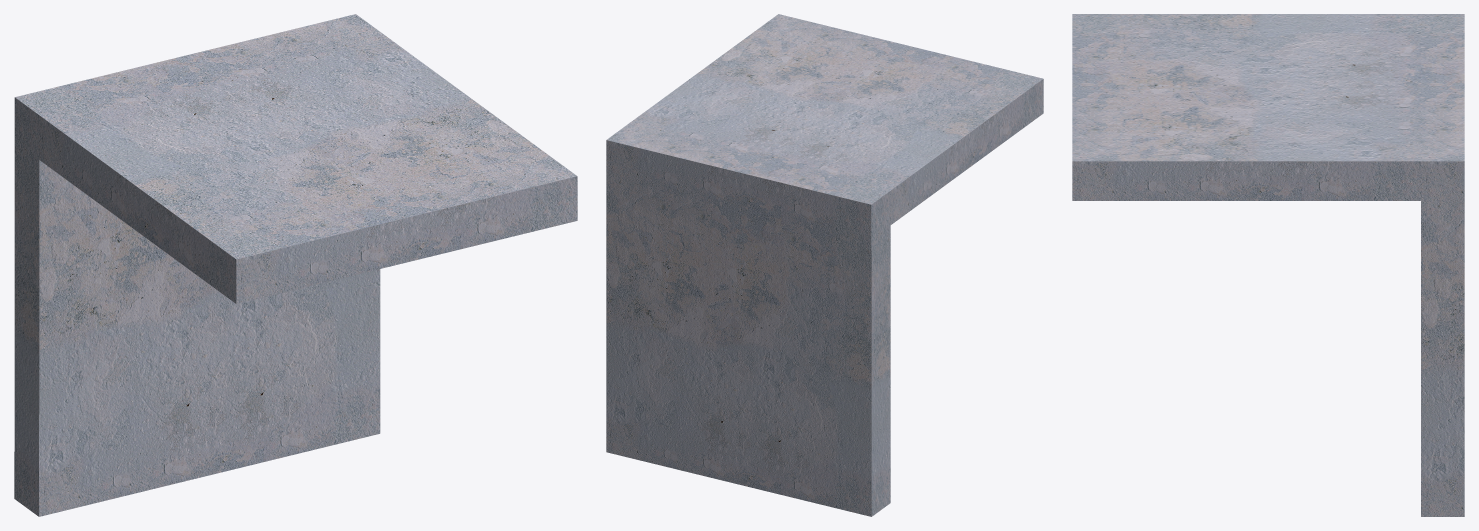
File: wall1-concrete-corner.obj
3 renders of one model, left to right at view 1: azimuth 30°, elevation 25°; view 2: azimuth 150°, elevation 25°; view 3: azimuth 270°, elevation 25°, orthographic. The views are drawn at different scales.
Visible parts, largest first — view 1: wall1-concrete-corner; view 2: wall1-concrete-corner; view 3: wall1-concrete-corner.
Boxes of the visible parts, box(x1,y1,x2,y2) form: wall1-concrete-corner: box(14, 14, 577, 516); wall1-concrete-corner: box(606, 14, 1043, 516); wall1-concrete-corner: box(1072, 14, 1464, 516).
Bounding box in the file's own units: 1 × 1.12 × 1.13.
